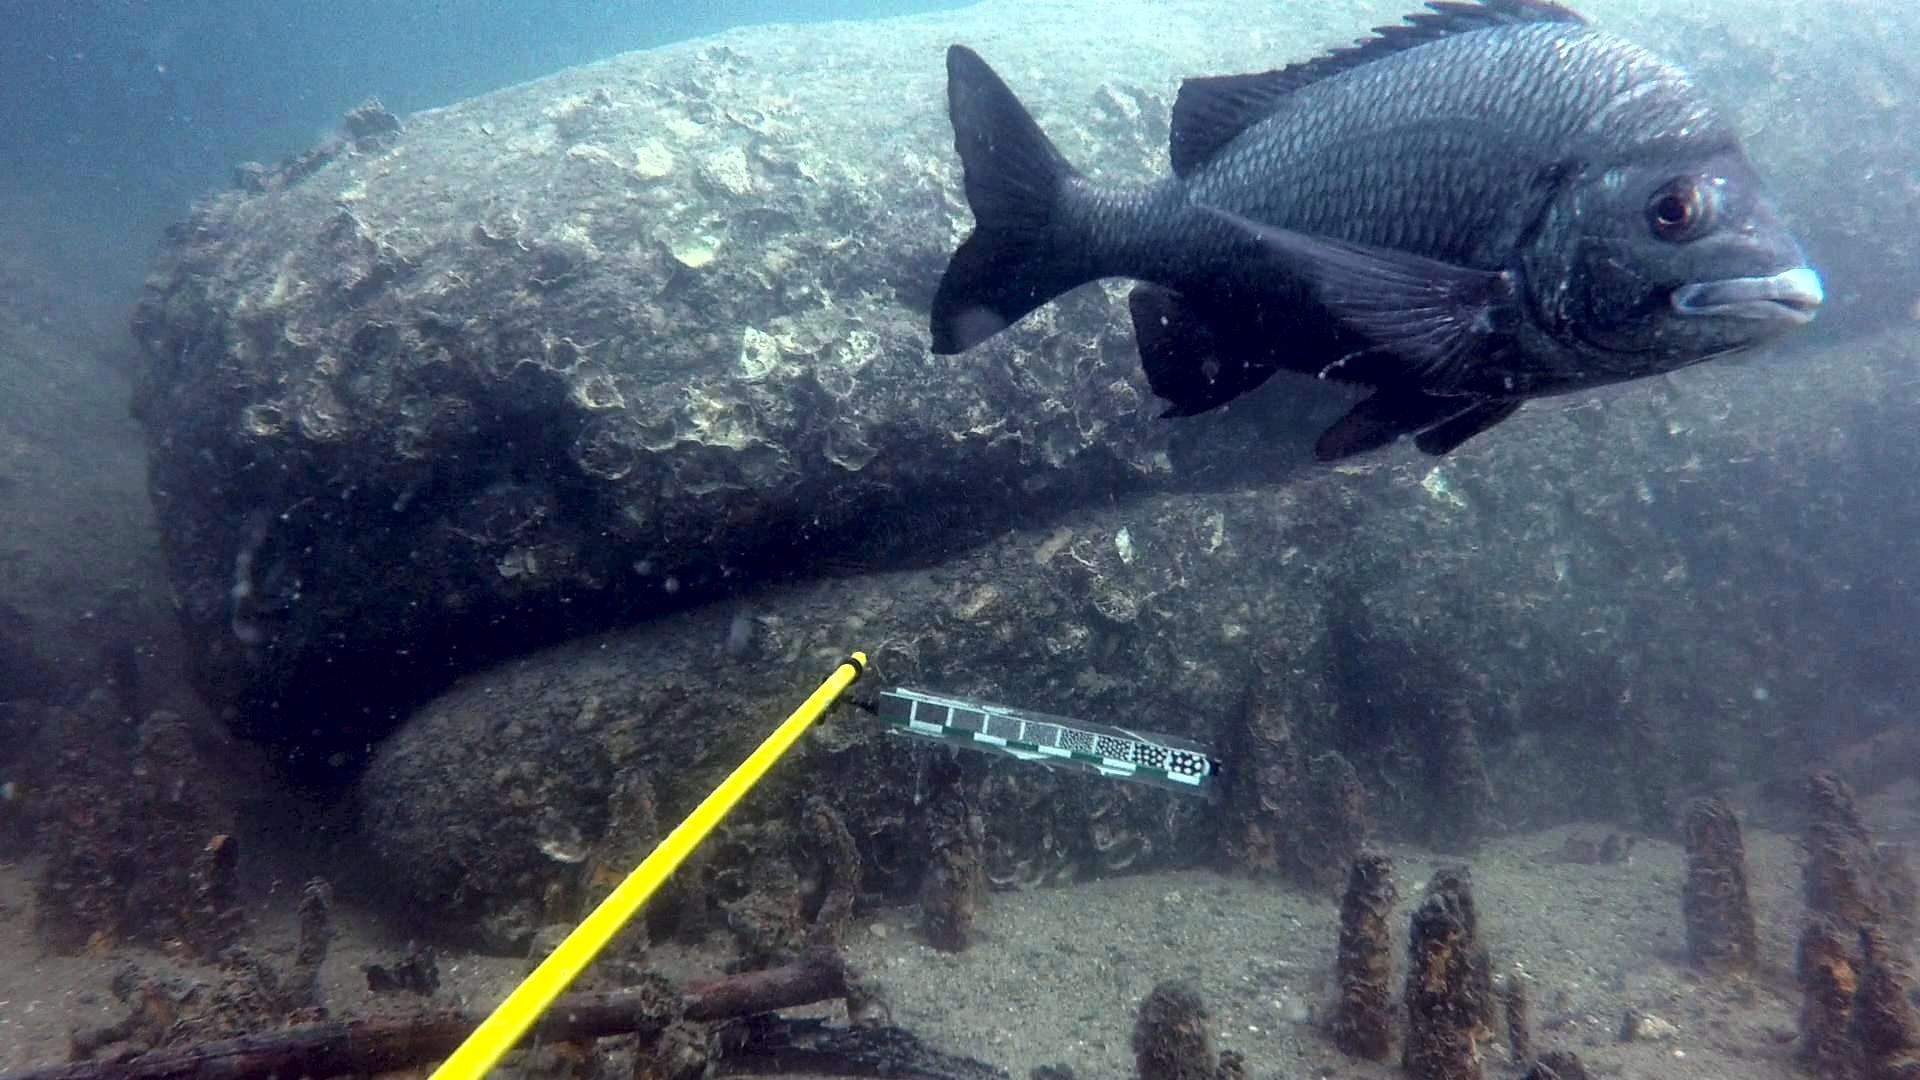acanthopagrus palmaris: (915, 0, 1835, 459)
